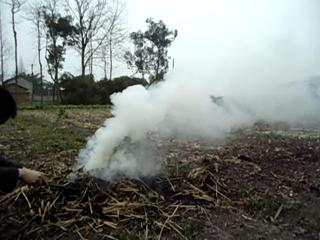yanwu: (83, 36, 295, 168)
